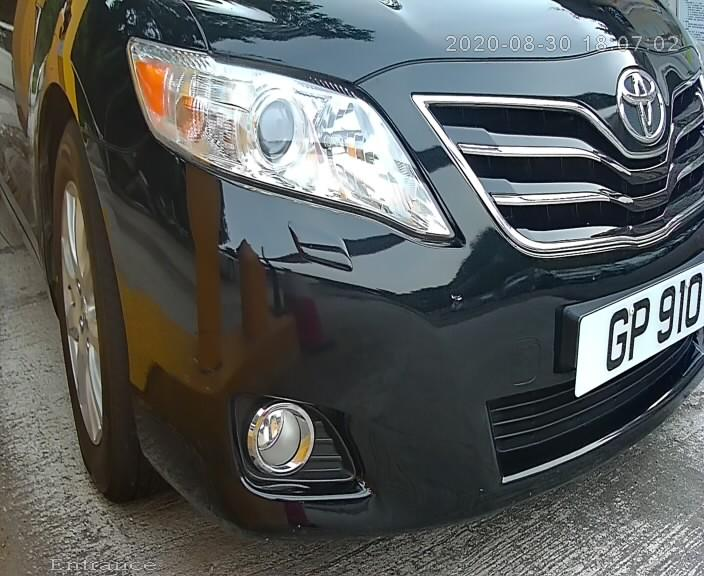License Plate: (563, 268, 689, 397)
